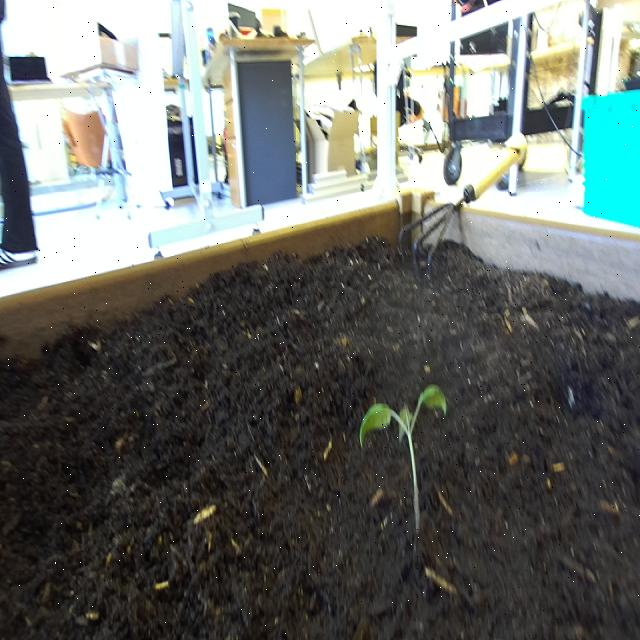Healthy: (355, 379, 453, 543)
